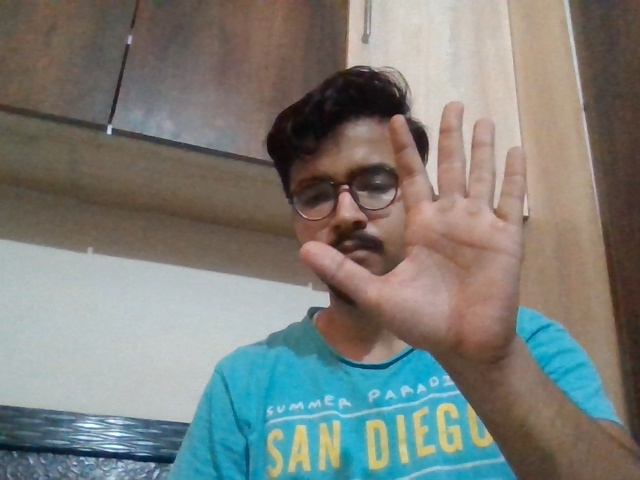hello: (299, 113, 542, 362)
